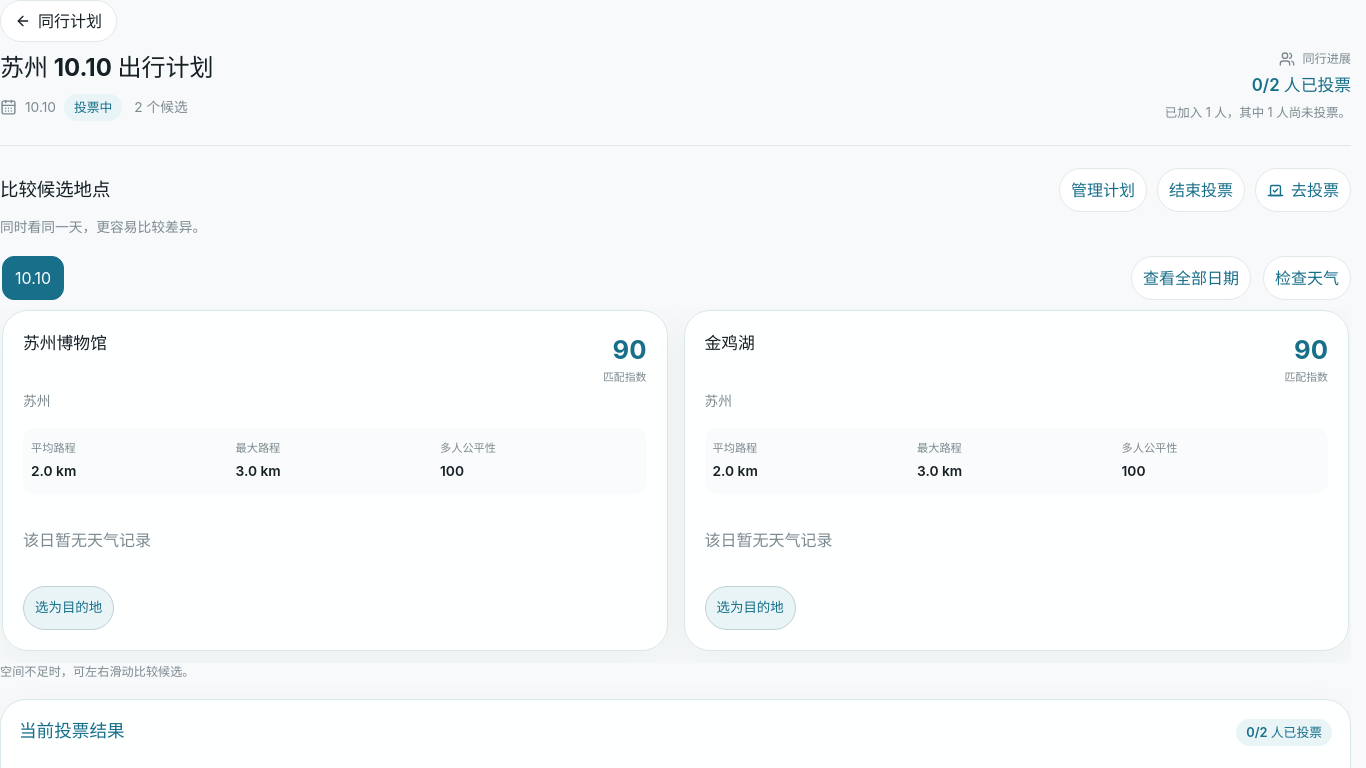
Scenario: vote failures keep the floating draft open for retry
Click the button "去投票". click: (1303, 190)
box: [1255,168,1351,212]
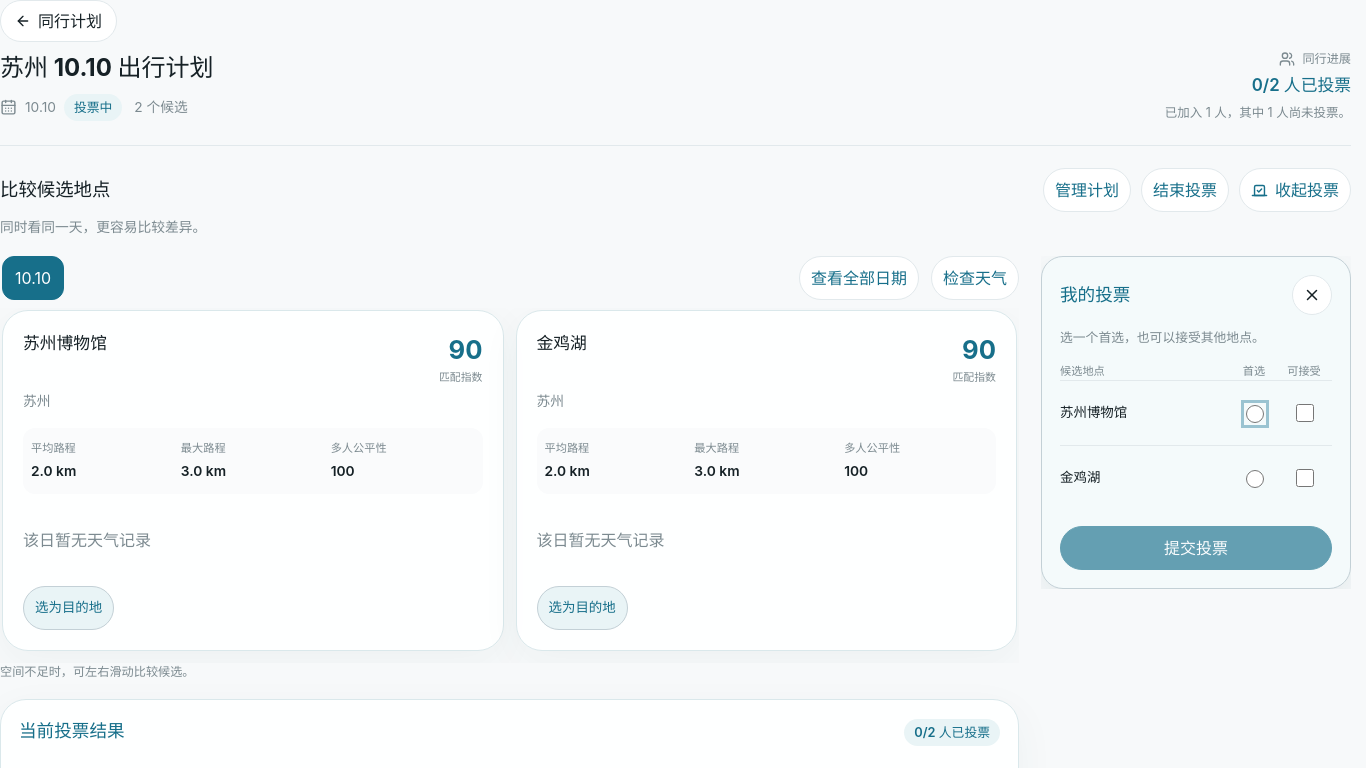
Click the radio button named "首选 金鸡湖". click: (1255, 479)
box: [1246,470,1264,488]
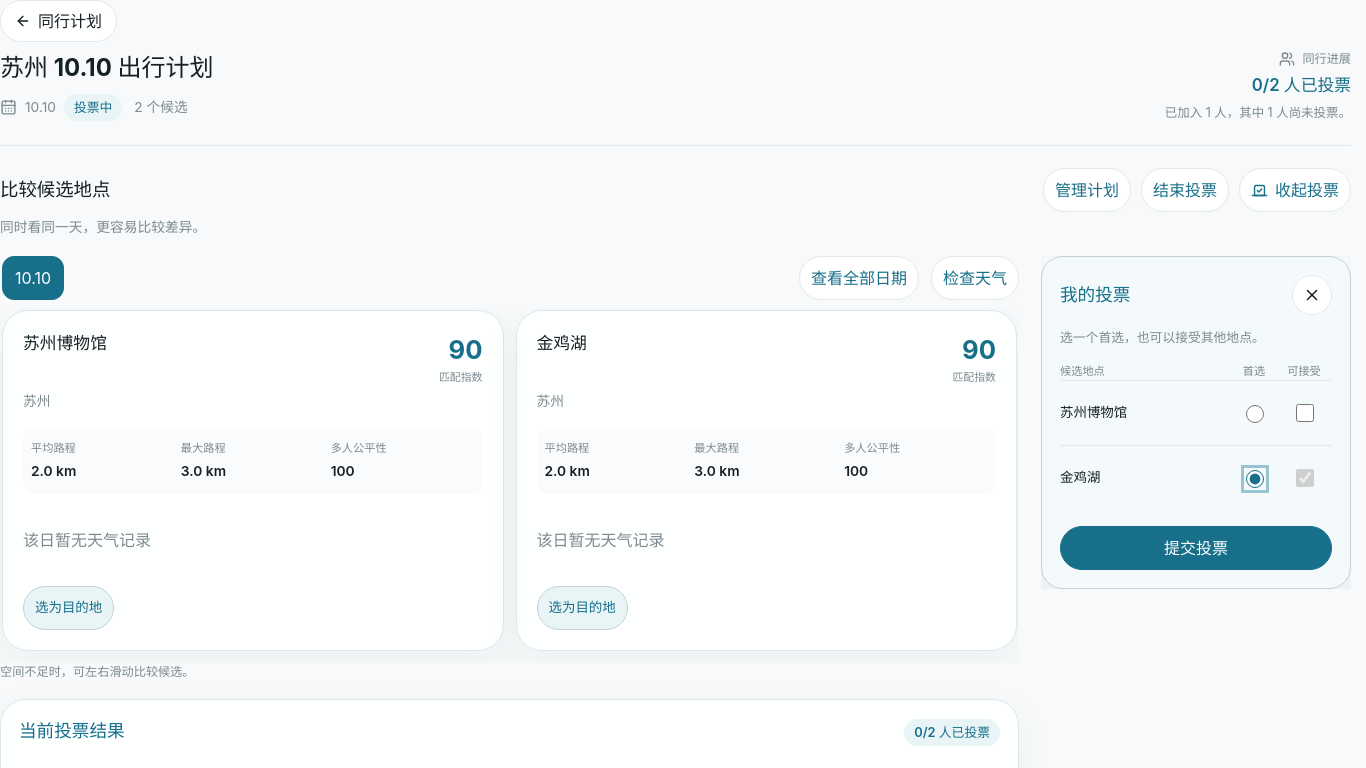
Click the button "提交投票". click: (1196, 548)
box: [1060,526,1332,570]
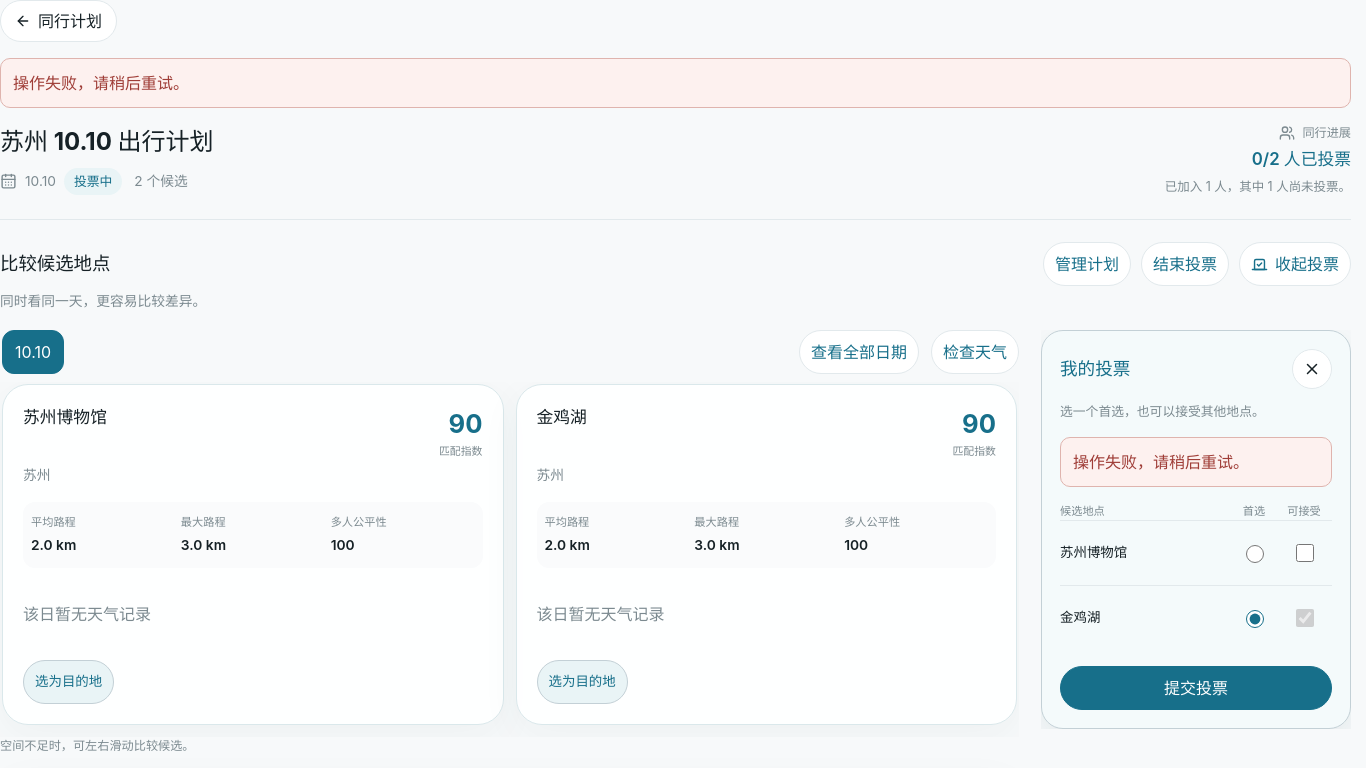
Now the radio button named "首选 金鸡湖" is checked, box [1246,610,1264,628]
Now the dialog "我的投票" is shown, box [1041,330,1351,729]
Now the message "操作失败，请稍后重试。" is shown, box [0,58,1351,108]
